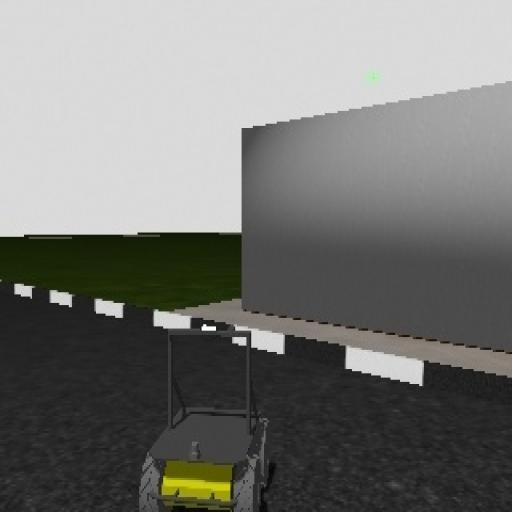huskya200: (130, 320, 282, 512)
